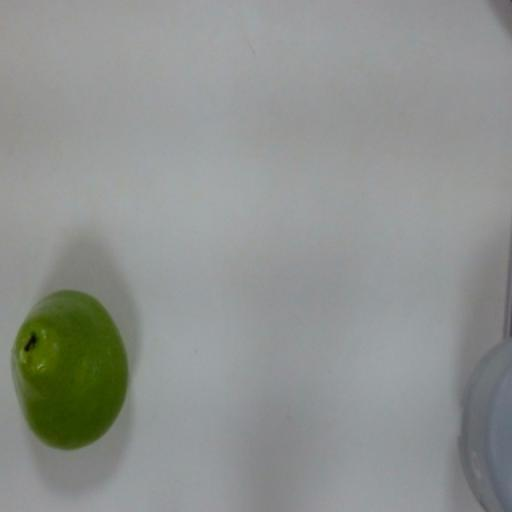Unripe: (12, 287, 144, 461)
